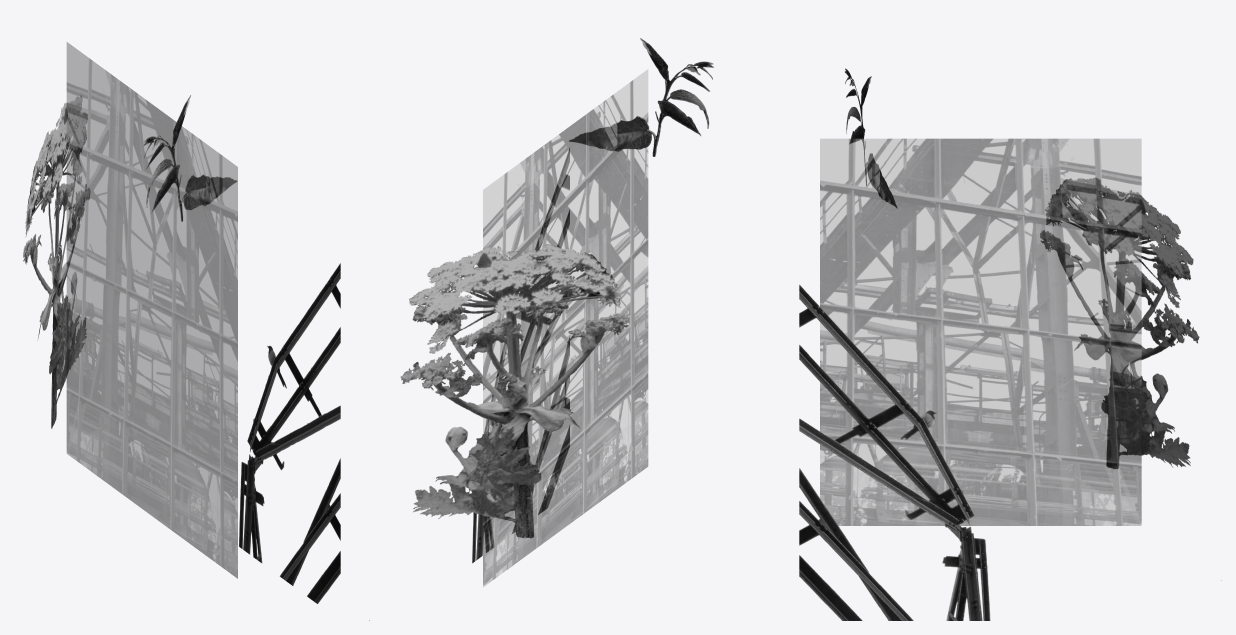
The model's file is asset.glb.
The picture shows the model from 3 angles, left to right: view 1: azimuth 30°, elevation 25°; view 2: azimuth 150°, elevation 25°; view 3: azimuth 270°, elevation 25°; orthographic projection. The views are drawn at different scales.
Visible parts, largest first — view 1: Fenster halb durchsichtig.png, Elster nochmal neu freigestellt, Herkules freigestellt nochmal neu, Pflanze freigestellt.png; view 2: Fenster halb durchsichtig.png, Herkules freigestellt nochmal neu, Elster nochmal neu freigestellt, Pflanze freigestellt.png; view 3: Fenster halb durchsichtig.png, Herkules freigestellt nochmal neu, Elster nochmal neu freigestellt, Pflanze freigestellt.png.
Part boxes in pixels (left/top/right/bottom): Fenster halb durchsichtig.png: left=66, top=42, right=237, bottom=578; Elster nochmal neu freigestellt: left=239, top=263, right=340, bottom=603; Herkules freigestellt nochmal neu: left=23, top=95, right=90, bottom=428; Pflanze freigestellt.png: left=143, top=95, right=236, bottom=221; Fenster halb durchsichtig.png: left=483, top=69, right=648, bottom=586; Herkules freigestellt nochmal neu: left=369, top=244, right=629, bottom=620; Elster nochmal neu freigestellt: left=472, top=148, right=569, bottom=563; Pflanze freigestellt.png: left=569, top=38, right=713, bottom=156; Fenster halb durchsichtig.png: left=820, top=138, right=1141, bottom=525; Herkules freigestellt nochmal neu: left=1040, top=177, right=1221, bottom=580; Elster nochmal neu freigestellt: left=799, top=285, right=990, bottom=620; Pflanze freigestellt.png: left=844, top=68, right=897, bottom=208.
Size of the model in its own units: 0.6994 by 1.31 by 0.9876.
4 materials, 4 textured.
